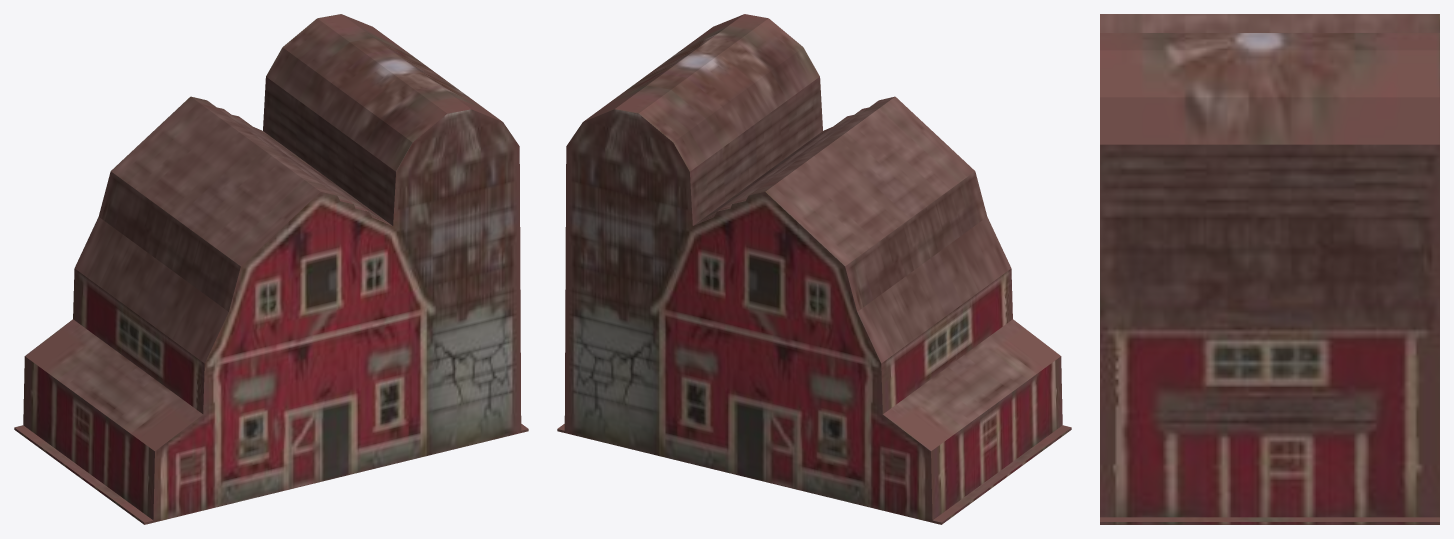
File: bg_field_barn_1_lod1.glb
3 renders of one model, left to right at view 1: azimuth 30°, elevation 25°; view 2: azimuth 150°, elevation 25°; view 3: azimuth 270°, elevation 25°, orthographic. The views are drawn at different scales.
Parts seen in each view (by area): view 1: body; view 2: body; view 3: body.
Boxes of the visible parts, x1,y1,x2,y2 form: body: [14, 14, 528, 524]; body: [557, 14, 1071, 524]; body: [1100, 14, 1439, 524].
Bounding box in the file's own units: 8.94 × 7.5 × 5.25.
Materials: 1 (1 with a texture image).
